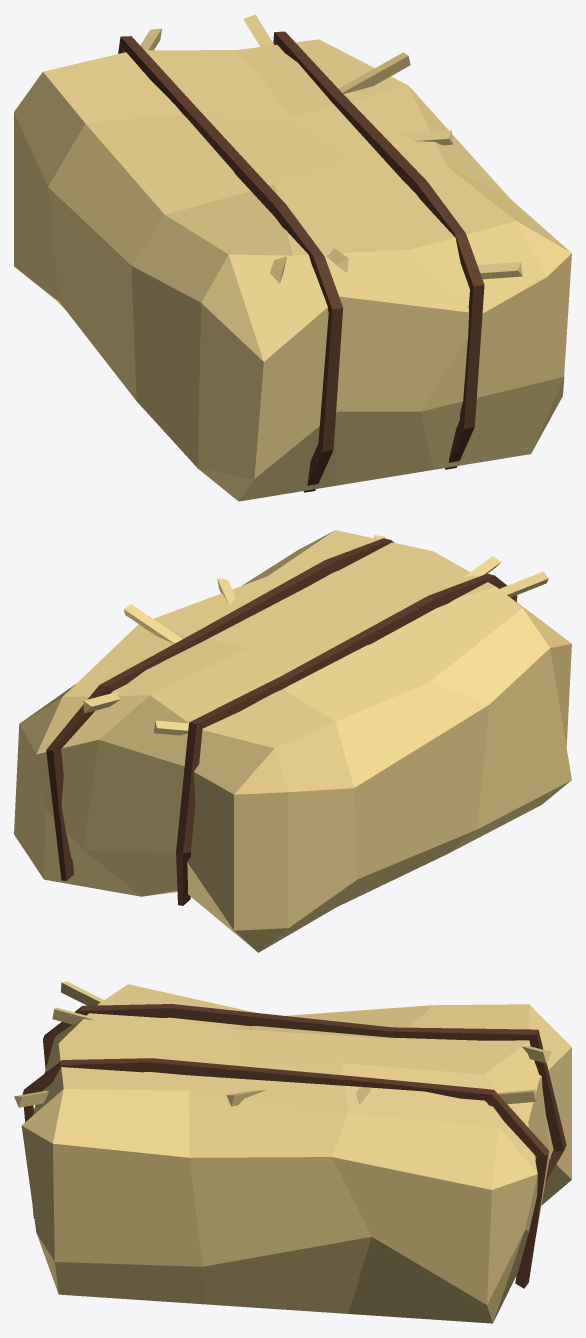
Rendered from hay.fbx.
The picture shows the model from 3 angles, top to bottom: view 1: azimuth 30°, elevation 25°; view 2: azimuth 150°, elevation 25°; view 3: azimuth 270°, elevation 25°; orthographic projection. The views are drawn at different scales.
Parts seen in each view (by area): view 1: Cube.001; view 2: Cube.001; view 3: Cube.001.
Part boxes in pixels (box(x1,y1,x2,y2)): Cube.001: box(14, 14, 571, 501); Cube.001: box(14, 530, 571, 952); Cube.001: box(14, 981, 571, 1323).
Bounding box in the file's own units: 2.37 × 1.45 × 3.24.
